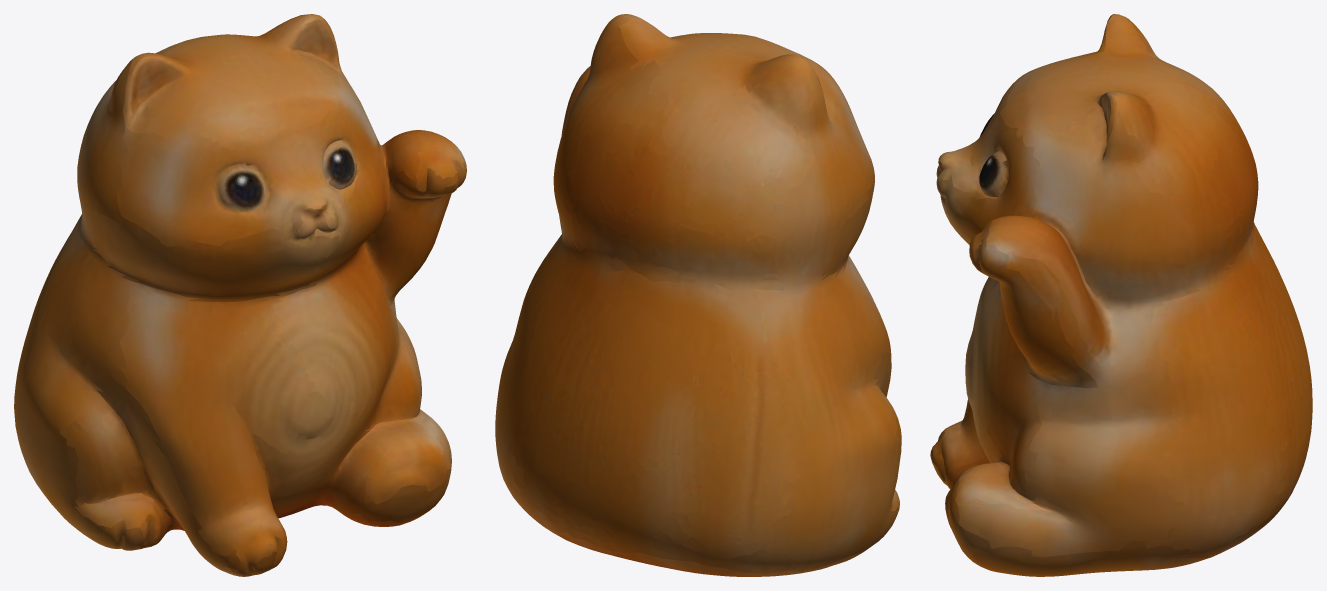
Rendered from wish_orange_cat.glb.
3 views of the same model, side by side, from view 1: azimuth 30°, elevation 25°; view 2: azimuth 150°, elevation 25°; view 3: azimuth 270°, elevation 25° (orthographic). The views are drawn at different scales.
Visible parts, largest first — view 1: world; view 2: world; view 3: world.
Boxes of the visible parts, x1,y1,x2,y2 form: world: (14, 14, 466, 576); world: (495, 14, 901, 576); world: (930, 14, 1312, 576).
Size of the model in its own units: 0.1036 by 0.13 by 0.0985.
1 material, 1 textured.
